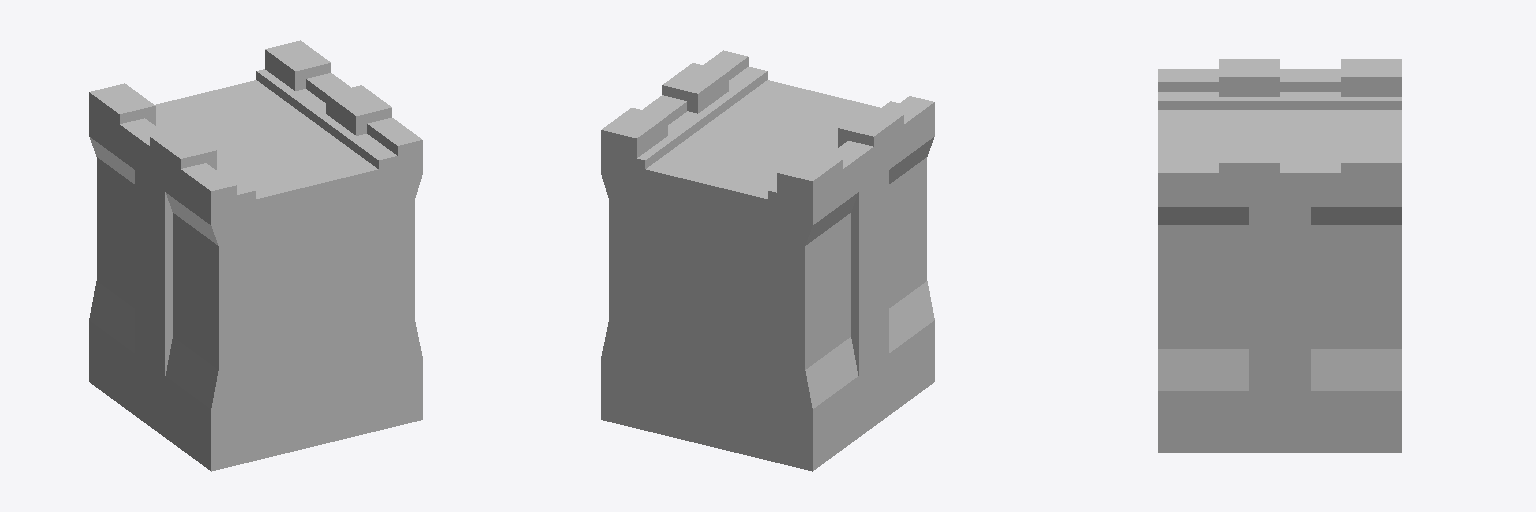
File: wallPillar.obj
3 renders of one model, left to right at view 1: azimuth 30°, elevation 25°; view 2: azimuth 150°, elevation 25°; view 3: azimuth 270°, elevation 25°, orthographic.
Parts seen in each view (by area): view 1: wallPillar; view 2: wallPillar; view 3: wallPillar.
Part boxes in pixels (left/top/right/bottom): wallPillar: left=89, top=40, right=422, bottom=471; wallPillar: left=601, top=50, right=934, bottom=471; wallPillar: left=1158, top=59, right=1401, bottom=452.
Bounding box in the file's own units: 10 × 13.1 × 10.